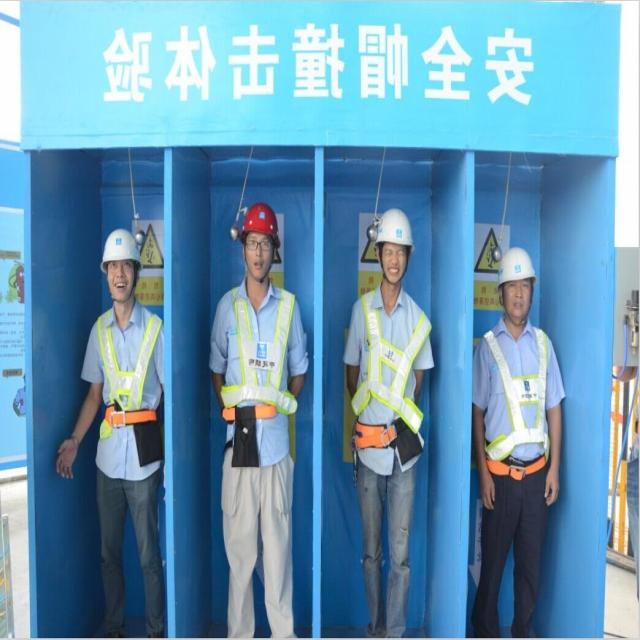Reflective-Jacket: (352, 290, 431, 448), (220, 282, 298, 421), (481, 323, 552, 471), (95, 306, 163, 434)
Safety-Helmet: (373, 203, 415, 248), (495, 243, 536, 287), (100, 224, 140, 266), (239, 199, 279, 237)
